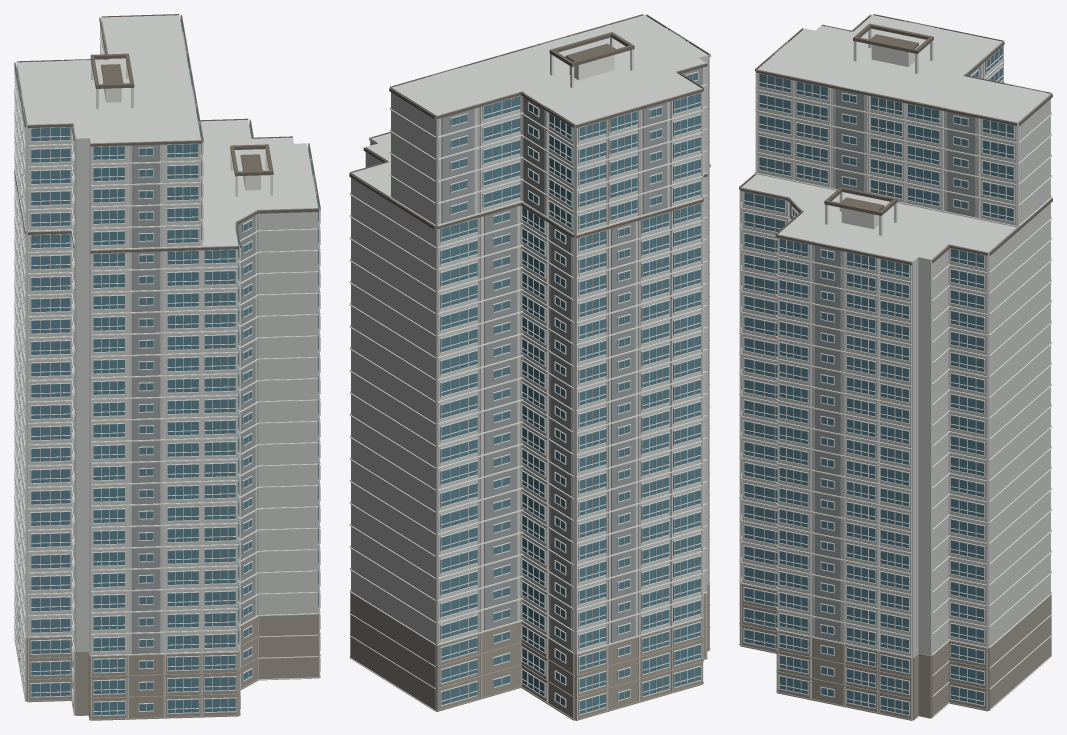
Rendered from bespoke-banpo-xi-113.glb.
The picture shows the model from 3 angles, left to right: view 1: azimuth 30°, elevation 25°; view 2: azimuth 150°, elevation 25°; view 3: azimuth 270°, elevation 25°; orthographic projection. The views are drawn at different scales.
Visible parts, largest first — view 1: BX113_editable_BX113_pale_silver_limestone, BX113_editable_BX113_blue_grey_broad_glazing, BX113_editable_BX113_white_window_frames, BX113_editable_BX113_ivory_course_bands, BX113_editable_BX113_grey_service_core, BX113_editable_BX113_warm_ground_stone, BX113_editable_BX113_dark_coping; view 2: BX113_editable_BX113_pale_silver_limestone, BX113_editable_BX113_blue_grey_broad_glazing, BX113_editable_BX113_white_window_frames, BX113_editable_BX113_ivory_course_bands, BX113_editable_BX113_grey_service_core, BX113_editable_BX113_warm_ground_stone, BX113_editable_BX113_dark_coping; view 3: BX113_editable_BX113_pale_silver_limestone, BX113_editable_BX113_blue_grey_broad_glazing, BX113_editable_BX113_white_window_frames, BX113_editable_BX113_ivory_course_bands, BX113_editable_BX113_grey_service_core, BX113_editable_BX113_warm_ground_stone, BX113_editable_BX113_dark_coping.
Boxes of the visible parts, box(x1,y1,x2,y2) form: BX113_editable_BX113_pale_silver_limestone: box(16, 15, 318, 714); BX113_editable_BX113_blue_grey_broad_glazing: box(16, 19, 318, 715); BX113_editable_BX113_white_window_frames: box(14, 29, 320, 716); BX113_editable_BX113_ivory_course_bands: box(14, 15, 320, 720); BX113_editable_BX113_grey_service_core: box(18, 20, 316, 653); BX113_editable_BX113_warm_ground_stone: box(14, 595, 320, 720); BX113_editable_BX113_dark_coping: box(14, 14, 320, 253); BX113_editable_BX113_pale_silver_limestone: box(351, 15, 708, 719); BX113_editable_BX113_blue_grey_broad_glazing: box(440, 73, 700, 714); BX113_editable_BX113_white_window_frames: box(440, 71, 701, 715); BX113_editable_BX113_ivory_course_bands: box(349, 14, 710, 720); BX113_editable_BX113_grey_service_core: box(431, 29, 702, 651); BX113_editable_BX113_warm_ground_stone: box(350, 584, 710, 720); BX113_editable_BX113_dark_coping: box(349, 14, 710, 238); BX113_editable_BX113_pale_silver_limestone: box(741, 15, 1050, 719); BX113_editable_BX113_blue_grey_broad_glazing: box(741, 47, 1013, 714); BX113_editable_BX113_white_window_frames: box(741, 45, 1014, 715); BX113_editable_BX113_ivory_course_bands: box(739, 14, 1052, 719); BX113_editable_BX113_grey_service_core: box(774, 22, 1045, 642); BX113_editable_BX113_warm_ground_stone: box(739, 584, 1051, 720); BX113_editable_BX113_dark_coping: box(739, 14, 1052, 264).
Size of the model in its own units: 40.1 by 75.7 by 36.76.
